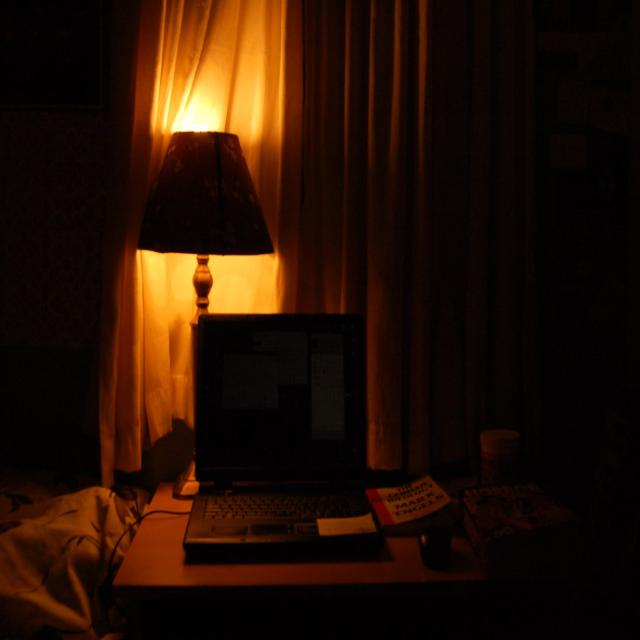Table: (106, 430, 635, 640)
